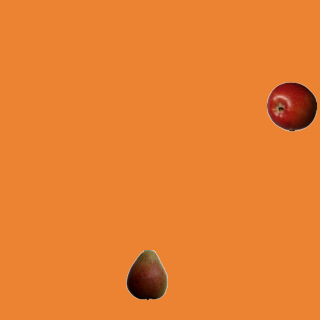Apple Braeburn: (266, 81, 316, 131)
Pear Forelle: (121, 249, 171, 299)
